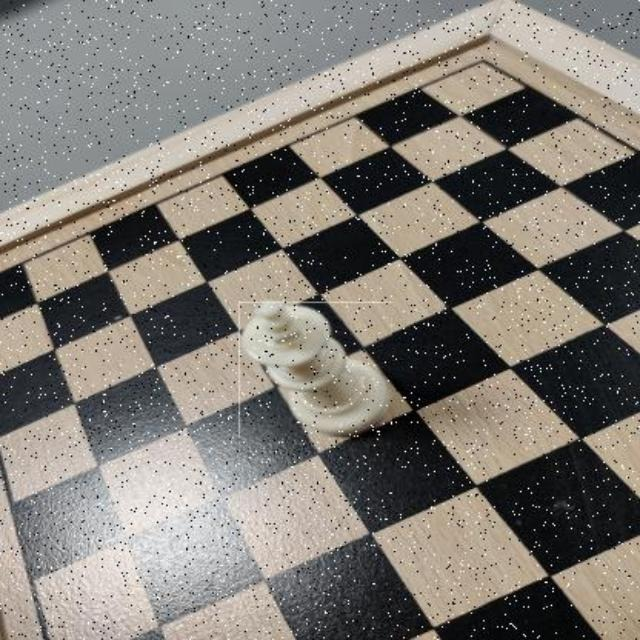white-king: (238, 302, 393, 438)
